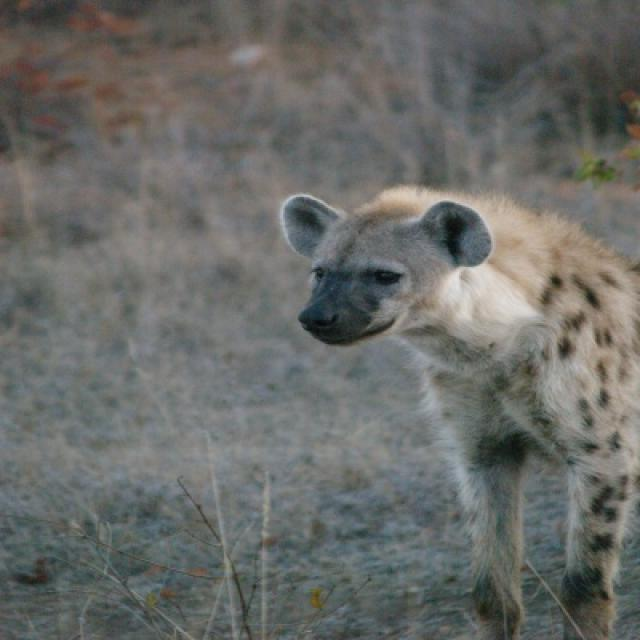hyena: (280, 184, 638, 638)
